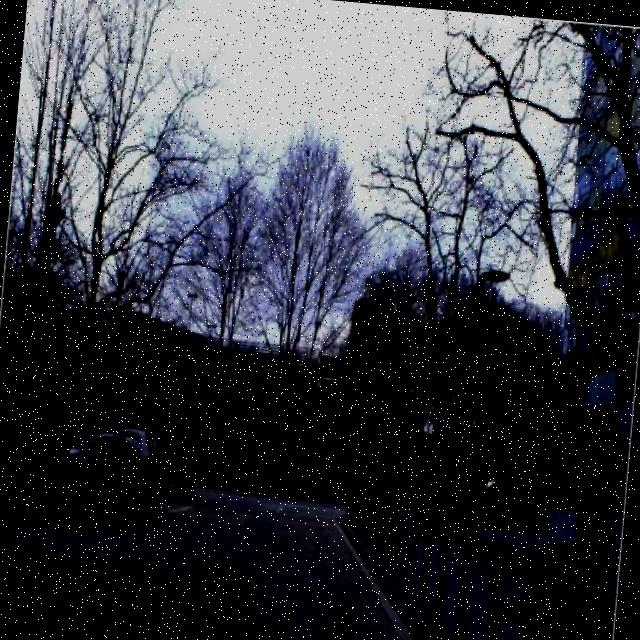Stop: (377, 440, 392, 461)
